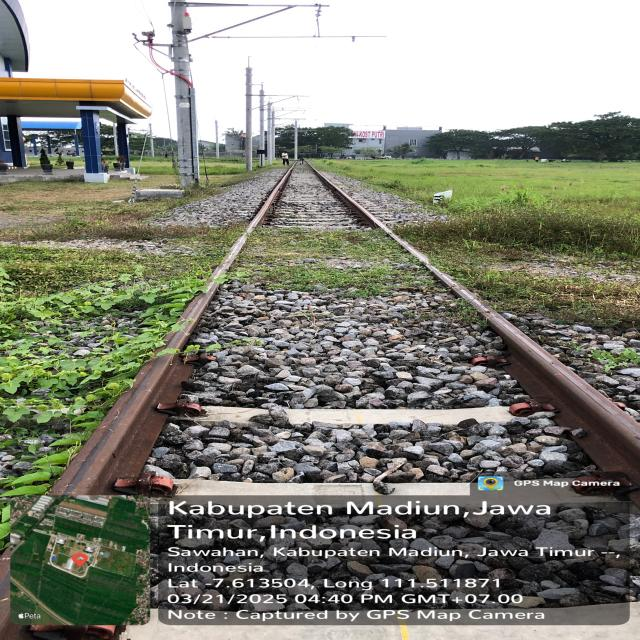rail-detection: (315, 171, 640, 487), (158, 170, 291, 353), (50, 354, 192, 495)
